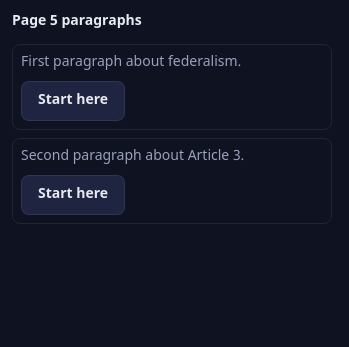
Test case: BookmarkPanel › lists the chunks of the current page and sets a start bookmark
The image size is (349, 347).
Check: the text "Second paragraph about Article 3." is shown, box [21,147,244,166]
Click the button with aria-label "set start bookmark at paragraph 2" at coordinates (73, 195), box [21,175,125,215]
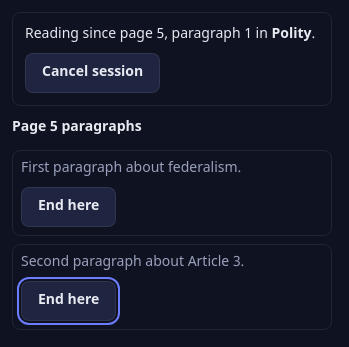
Check: the message shows "Reading since page 5, paragraph 1", box [12,12,332,106]
